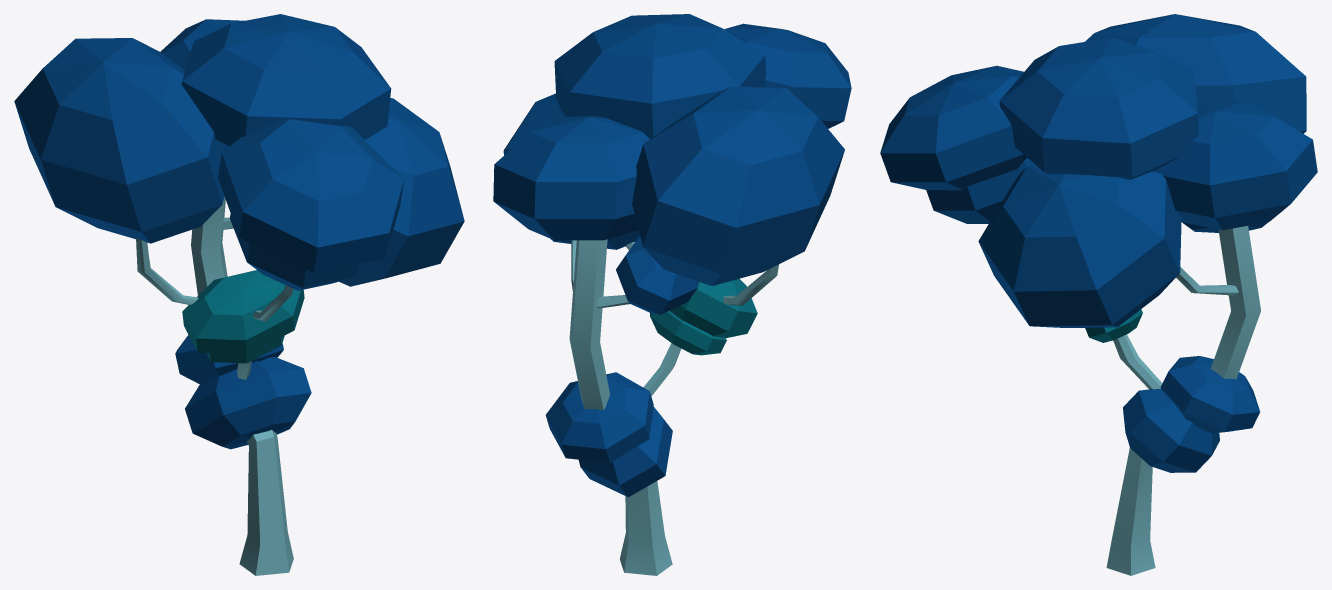
Rendered from magic_leaf_tree_cyan.fbx.
3 views of the same model, side by side, from view 1: azimuth 30°, elevation 25°; view 2: azimuth 150°, elevation 25°; view 3: azimuth 270°, elevation 25° (orthographic). The views are drawn at different scales.
Parts seen in each view (by area): view 1: pSphere8, pSphere6, pSphere9, pSphere4, pSphere10, pCylinder1, pSphere2, pSphere14, pSphere11, pSphere7, pCylinder7, pSphere12; view 2: pSphere8, pSphere9, pSphere7, pCylinder1, pSphere11, pSphere6, pSphere10, pSphere13, pSphere2, pSphere12, pSphere4, pCylinder7 (+1 smaller); view 3: pSphere4, pSphere9, pSphere7, pSphere6, pSphere8, pCylinder1, pSphere10, pSphere11, pSphere14, pCylinder2, pSphere12, pCylinder3.
Part boxes in pixels (bbox=[...]): pSphere8: bbox=[14, 38, 224, 243]; pSphere6: bbox=[218, 118, 403, 272]; pSphere9: bbox=[181, 14, 391, 149]; pSphere4: bbox=[339, 98, 464, 286]; pSphere10: bbox=[185, 357, 311, 449]; pCylinder1: bbox=[191, 196, 293, 575]; pSphere2: bbox=[182, 270, 304, 354]; pSphere14: bbox=[230, 214, 358, 290]; pSphere11: bbox=[175, 335, 283, 384]; pSphere7: bbox=[160, 19, 244, 70]; pCylinder7: bbox=[136, 238, 198, 304]; pSphere12: bbox=[206, 335, 284, 363]; pSphere8: bbox=[632, 86, 844, 285]; pSphere9: bbox=[554, 14, 766, 138]; pSphere7: bbox=[493, 115, 649, 240]; pCylinder1: bbox=[569, 239, 672, 575]; pSphere11: bbox=[545, 372, 653, 462]; pSphere6: bbox=[724, 23, 851, 128]; pSphere10: bbox=[578, 407, 672, 497]; pSphere13: bbox=[616, 235, 698, 314]; pSphere2: bbox=[669, 278, 757, 337]; pSphere12: bbox=[650, 311, 726, 355]; pSphere4: bbox=[503, 93, 639, 249]; pCylinder7: bbox=[723, 264, 778, 305]; pSphere4: bbox=[978, 164, 1181, 327]; pSphere9: bbox=[999, 37, 1198, 179]; pSphere7: bbox=[1155, 100, 1317, 230]; pSphere6: bbox=[880, 65, 1027, 190]; pSphere8: bbox=[1085, 14, 1306, 133]; pCylinder1: bbox=[1106, 225, 1260, 575]; pSphere10: bbox=[1123, 389, 1219, 472]; pSphere11: bbox=[1160, 356, 1259, 433]; pSphere14: bbox=[926, 158, 1033, 223]; pCylinder2: bbox=[1113, 334, 1162, 389]; pSphere12: bbox=[1085, 309, 1142, 342]; pCylinder3: bbox=[1176, 267, 1238, 295].
Size of the model in its own units: 30.2 by 42.73 by 33.34.
